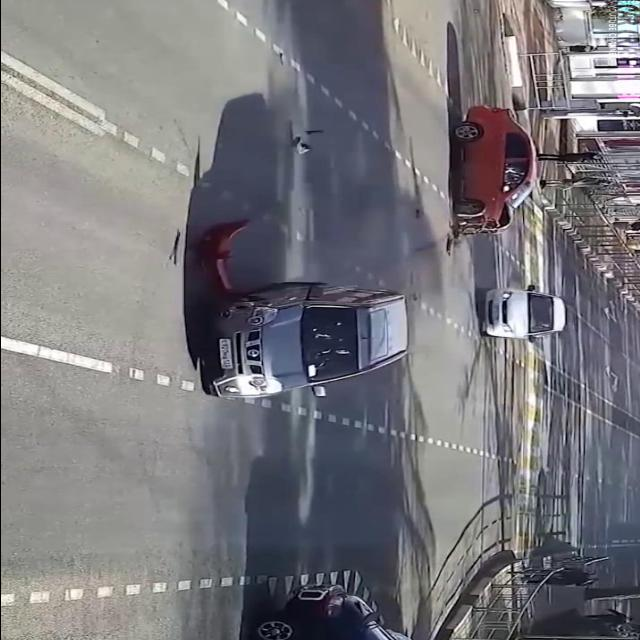accident: (162, 215, 418, 413), (434, 101, 550, 259)
